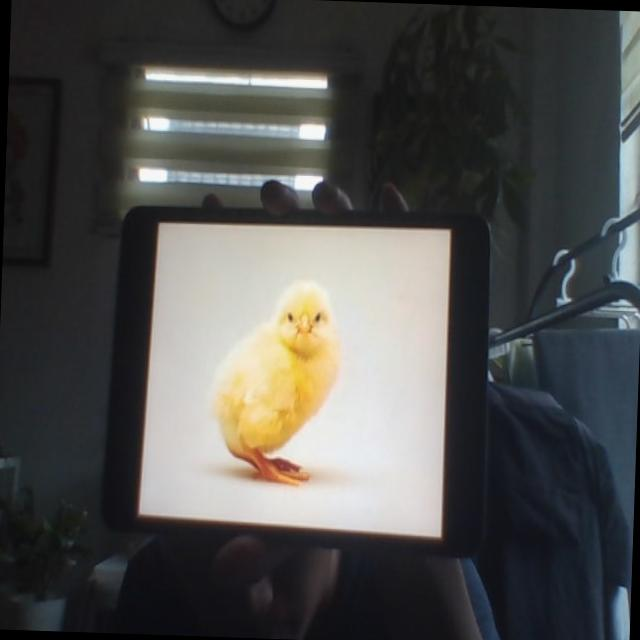Healthy: (212, 276, 344, 488)
